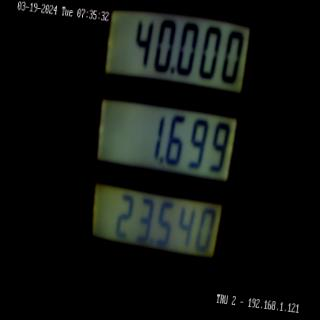screen: (75, 0, 260, 297)
